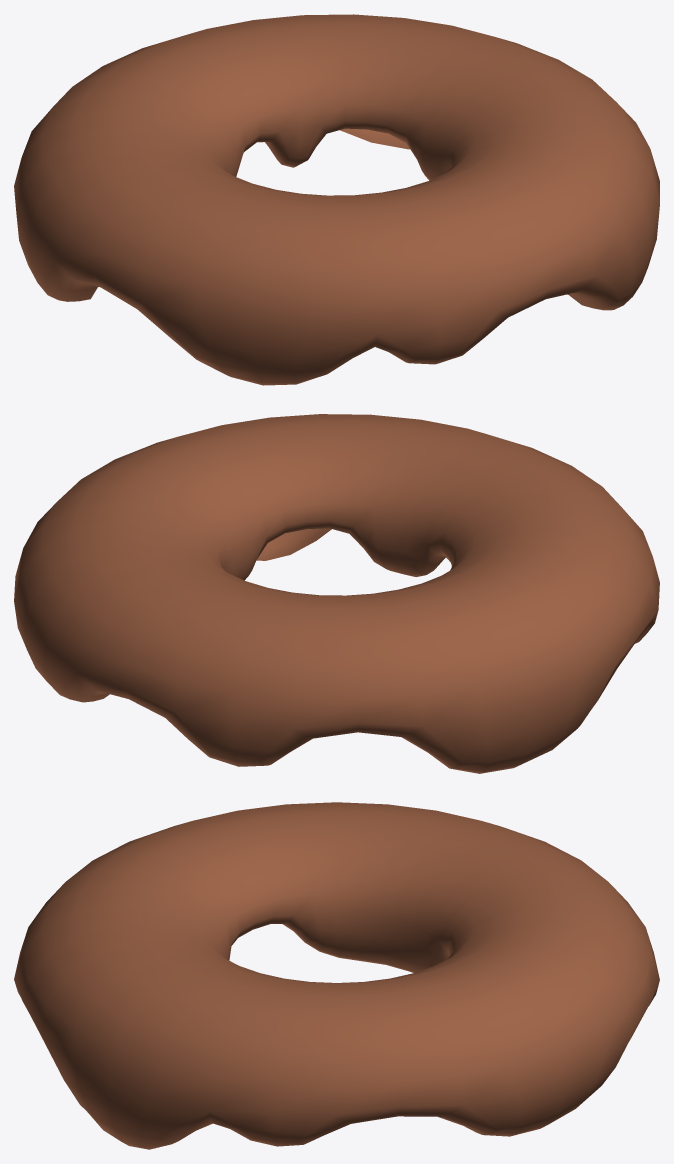
File: Donut_Icing_03.fbx
3 renders of one model, top to bottom at view 1: azimuth 30°, elevation 25°; view 2: azimuth 150°, elevation 25°; view 3: azimuth 270°, elevation 25°, orthographic.
Visible parts, largest first — view 1: Donut_Icing_03_LOD0; view 2: Donut_Icing_03_LOD0; view 3: Donut_Icing_03_LOD0.
Part boxes in pixels (<box>): Donut_Icing_03_LOD0: <box>14,14,659,385</box>; Donut_Icing_03_LOD0: <box>14,414,659,773</box>; Donut_Icing_03_LOD0: <box>14,802,659,1149</box>.
Size of what is drawn, in the model's own units: 575 by 153 by 576.
